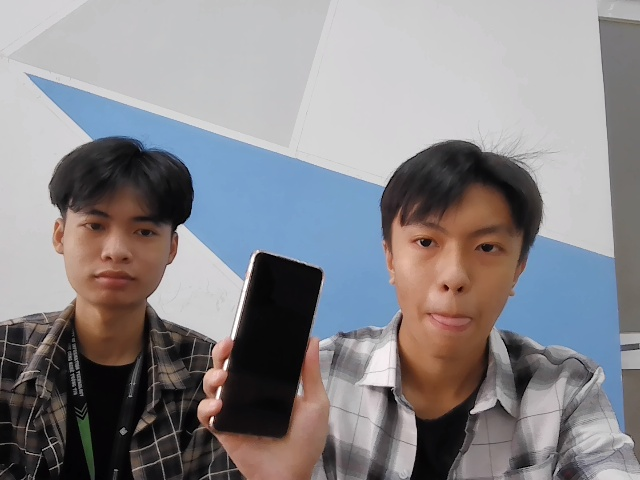human: (382, 140, 543, 357), (55, 138, 195, 307)
phone: (209, 252, 325, 442)
